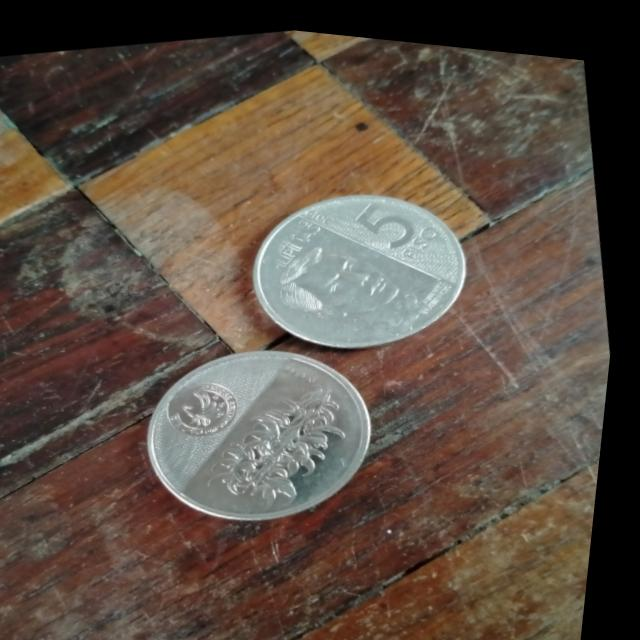5_New_Back: (203, 357, 387, 520)
5_New_Front: (344, 177, 451, 265)
